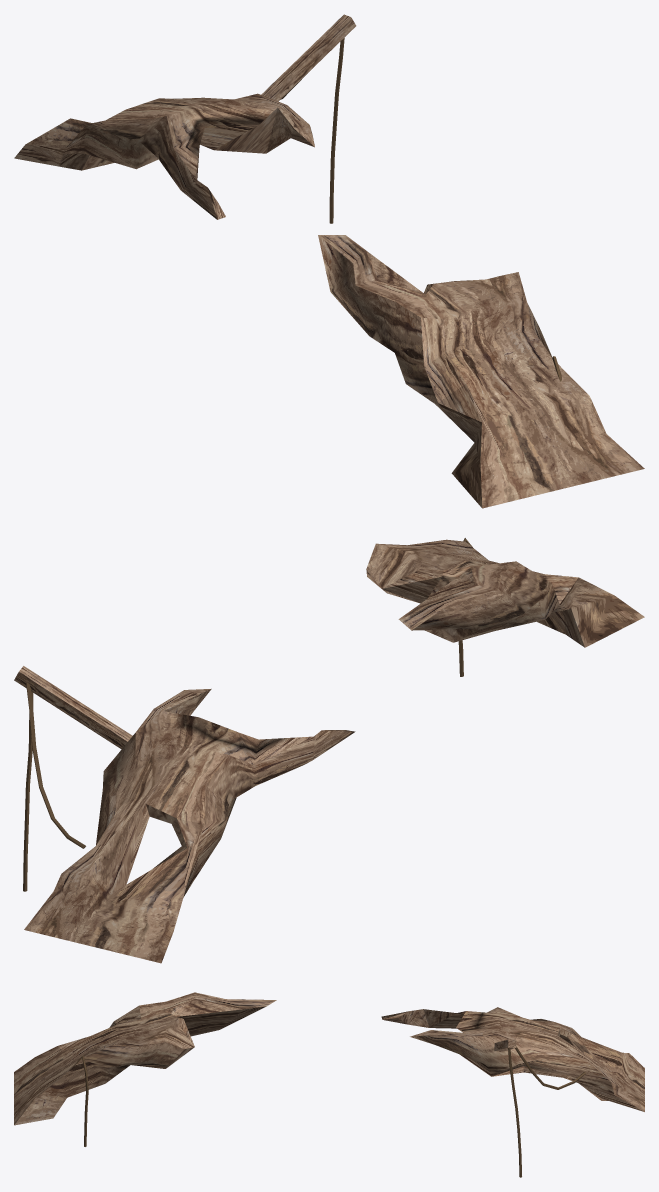
File: bridge4.fbx
3 renders of one model, top to bottom at view 1: azimuth 30°, elevation 25°; view 2: azimuth 150°, elevation 25°; view 3: azimuth 270°, elevation 25°, orthographic. The views are drawn at different scales.
Parts seen in each view (by area): view 1: polySurface4; view 2: polySurface4; view 3: polySurface4.
Part boxes in pixels (x1,y1,x2,y2): polySurface4: [14, 14, 644, 508]; polySurface4: [14, 538, 644, 963]; polySurface4: [14, 992, 644, 1177].
Bounding box in the file's own units: 91.01 × 76.93 × 306.
